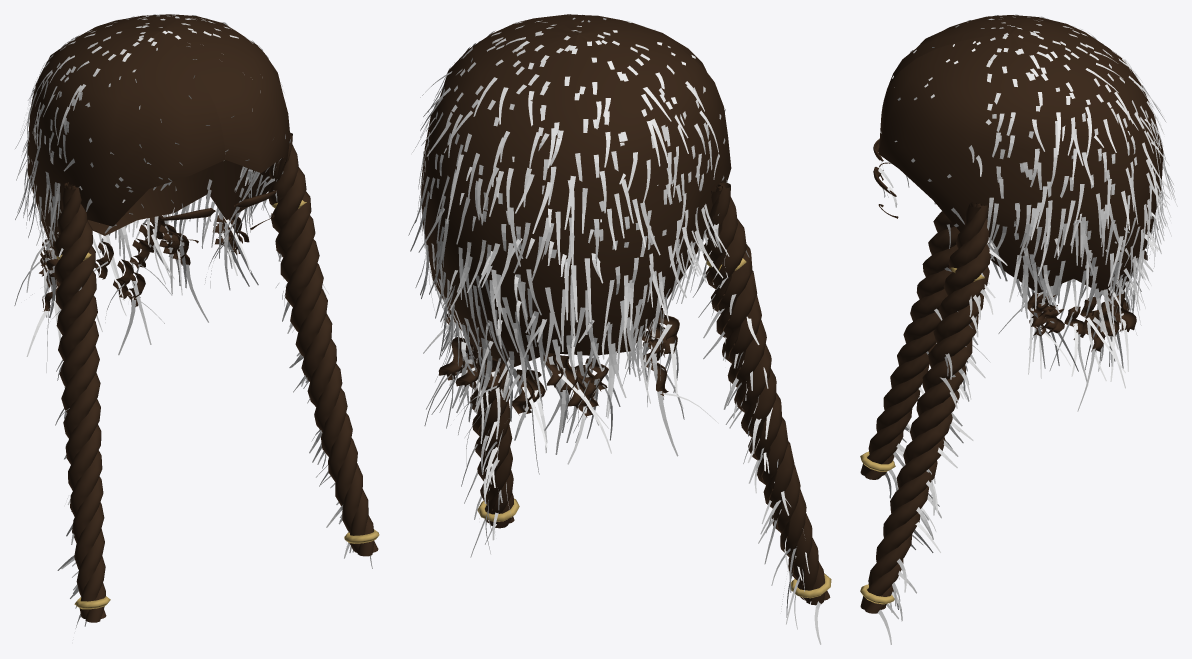
The model's file is hair-huscarl-braids.glb.
3 views of the same model, side by side, from view 1: azimuth 30°, elevation 25°; view 2: azimuth 150°, elevation 25°; view 3: azimuth 270°, elevation 25° (orthographic). The views are drawn at different scales.
Visible parts, largest first — view 1: hair-huscarl-braids_1, hair__strands, hair-huscarl-braids_2; view 2: hair-huscarl-braids_1, hair__strands, hair-huscarl-braids_2; view 3: hair-huscarl-braids_1, hair__strands, hair-huscarl-braids_2.
Part boxes in pixels (x1,y1,x2,y2): hair-huscarl-braids_1: (27,14,378,622); hair__strands: (14,14,372,628); hair-huscarl-braids_2: (56,200,379,609); hair-huscarl-braids_1: (420,14,830,605); hair__strands: (408,14,821,644); hair-huscarl-braids_2: (477,254,831,598); hair-huscarl-braids_1: (860,15,1163,613); hair__strands: (878,14,1177,644); hair-huscarl-braids_2: (860,267,984,604).
Bounding box in the file's own units: 0.2881 × 0.4863 × 0.2599.
